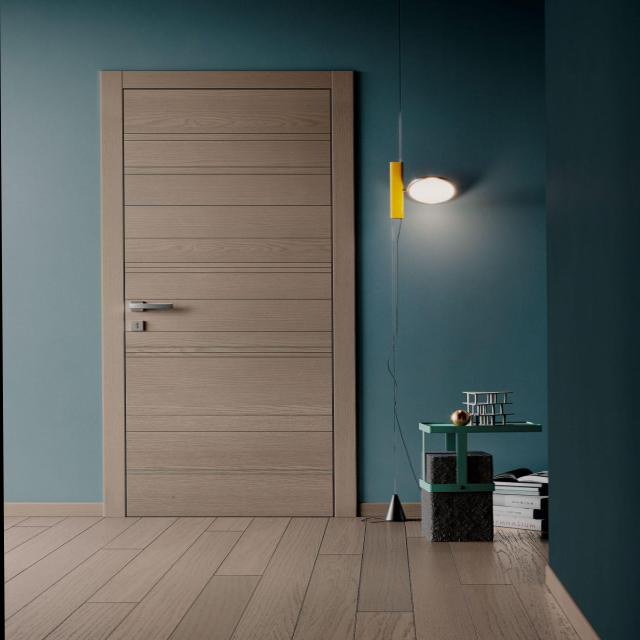close: (91, 63, 364, 526)
